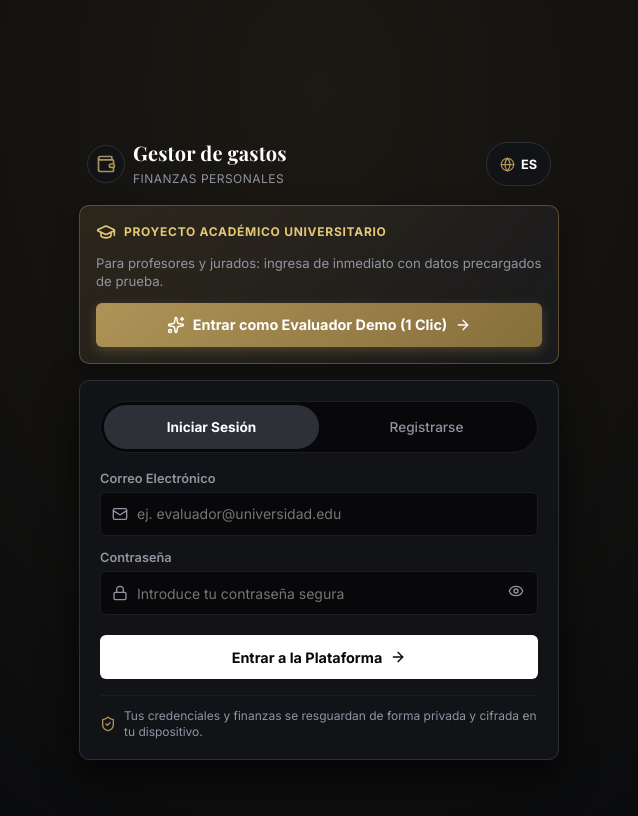
Test: Autenticación y Perfiles Universitarios (Opción A) › muestra mensaje de error cuando las credenciales de inicio de sesión son incorrectas
The image size is (638, 816).
In the field labelled "Correo Electrónico": (319, 514) x1=100 y1=492 x2=538 y2=536, type "desconocido@universidad.edu"
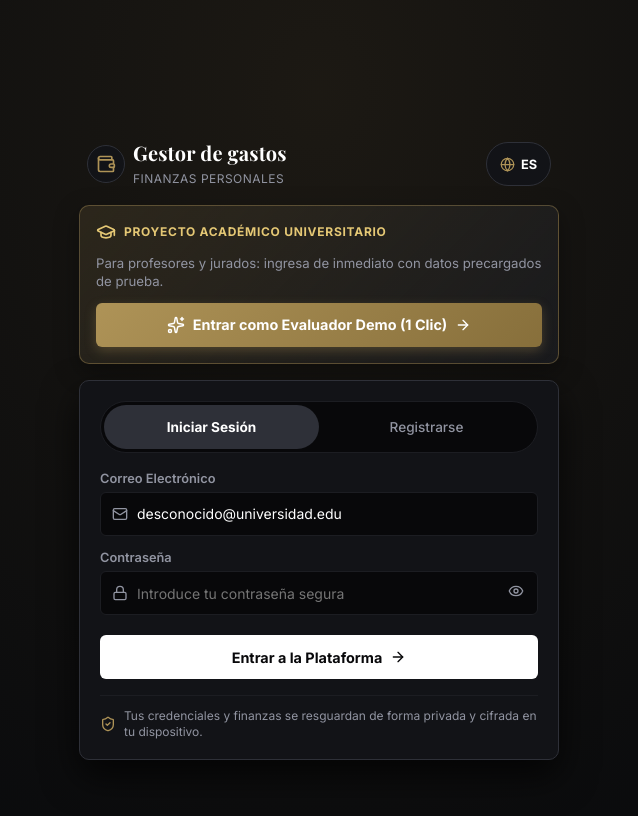
In the password field labelled "Contraseña": (319, 593) x1=100 y1=571 x2=538 y2=615, type "erronea123"
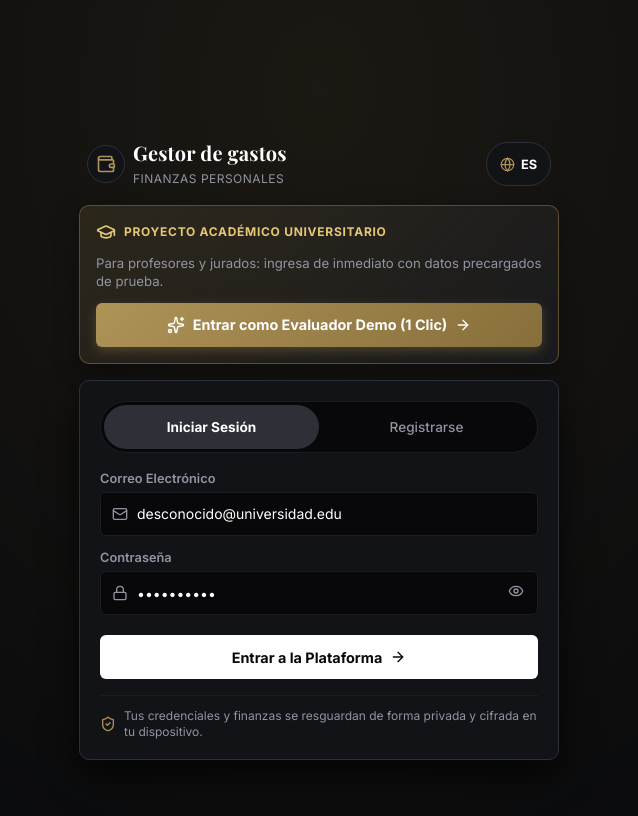
Click the button "Entrar a la Plataforma": (319, 657) x1=100 y1=635 x2=538 y2=679
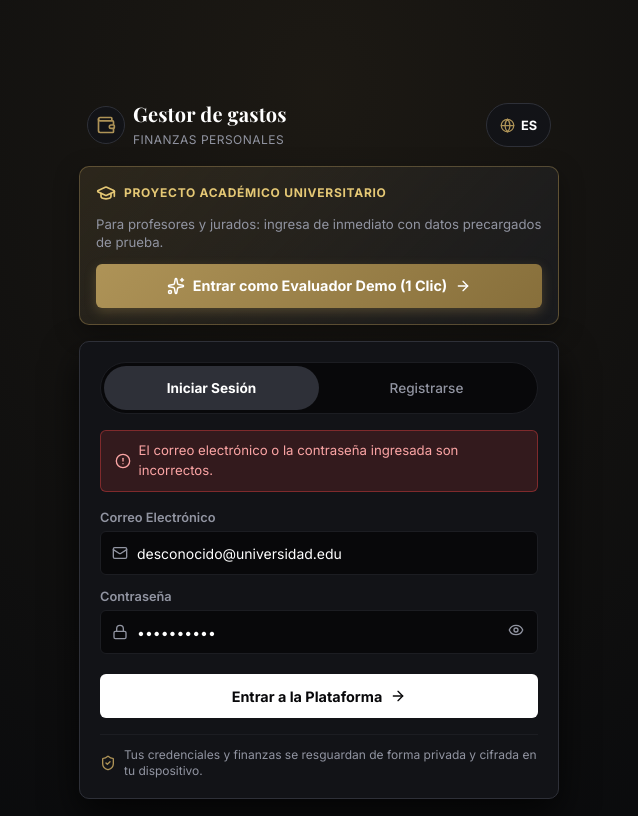
Expected: the text "El correo electrónico o la contraseña ingresada son incorrectos" is shown, x1=139 y1=442 x2=458 y2=478
